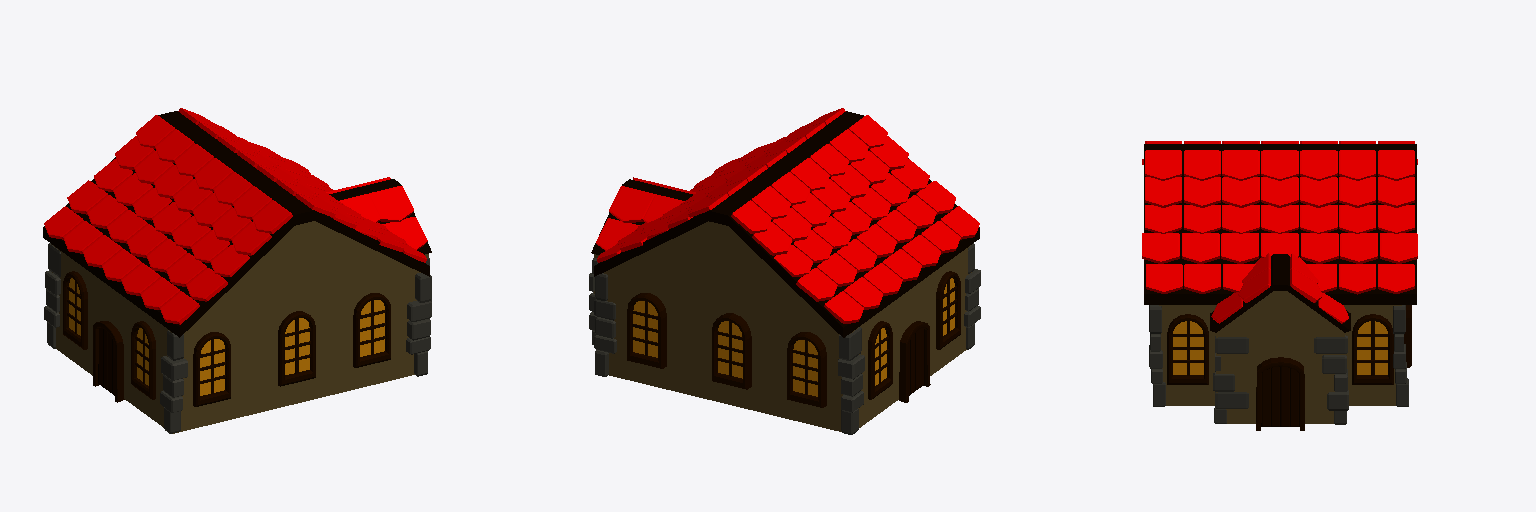
File: House_Level2_RedTeam.obj
The picture shows the model from 3 angles: view 1: azimuth 30°, elevation 25°; view 2: azimuth 150°, elevation 25°; view 3: azimuth 270°, elevation 25°; orthographic projection.
Visible parts, largest first — view 1: House_Level2_RedTeam_Cube; view 2: House_Level2_RedTeam_Cube; view 3: House_Level2_RedTeam_Cube.
Part boxes in pixels (left/top/right/bottom): House_Level2_RedTeam_Cube: left=43, top=108, right=431, bottom=433; House_Level2_RedTeam_Cube: left=589, top=108, right=980, bottom=434; House_Level2_RedTeam_Cube: left=1142, top=141, right=1417, bottom=430.
Size of the model in its own units: 19.98 by 12.82 by 15.83.